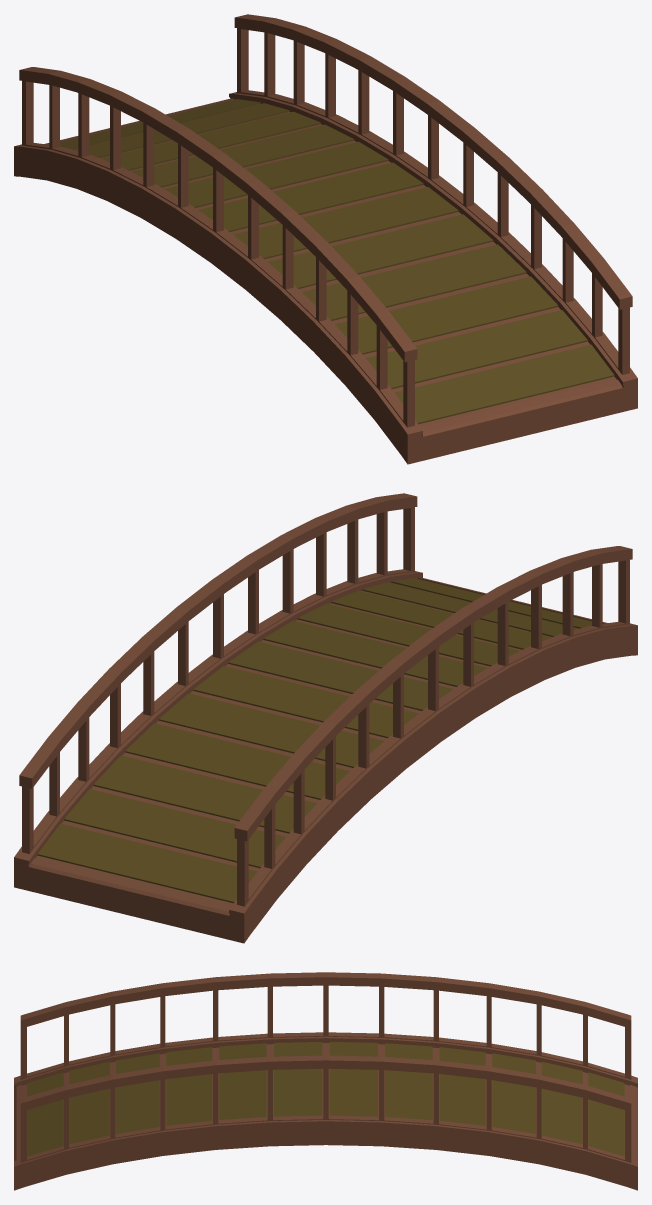
The model's file is bridge.fbx.
The picture shows the model from 3 angles, top to bottom: view 1: azimuth 30°, elevation 25°; view 2: azimuth 150°, elevation 25°; view 3: azimuth 270°, elevation 25°; orthographic projection. The views are drawn at different scales.
Visible parts, largest first — view 1: Cube.001; view 2: Cube.001; view 3: Cube.001.
Boxes of the visible parts, bbox=[...] form: Cube.001: bbox=[14, 14, 637, 464]; Cube.001: bbox=[14, 493, 637, 943]; Cube.001: bbox=[14, 972, 637, 1190].
Size of the model in its own units: 199 by 135 by 589.
